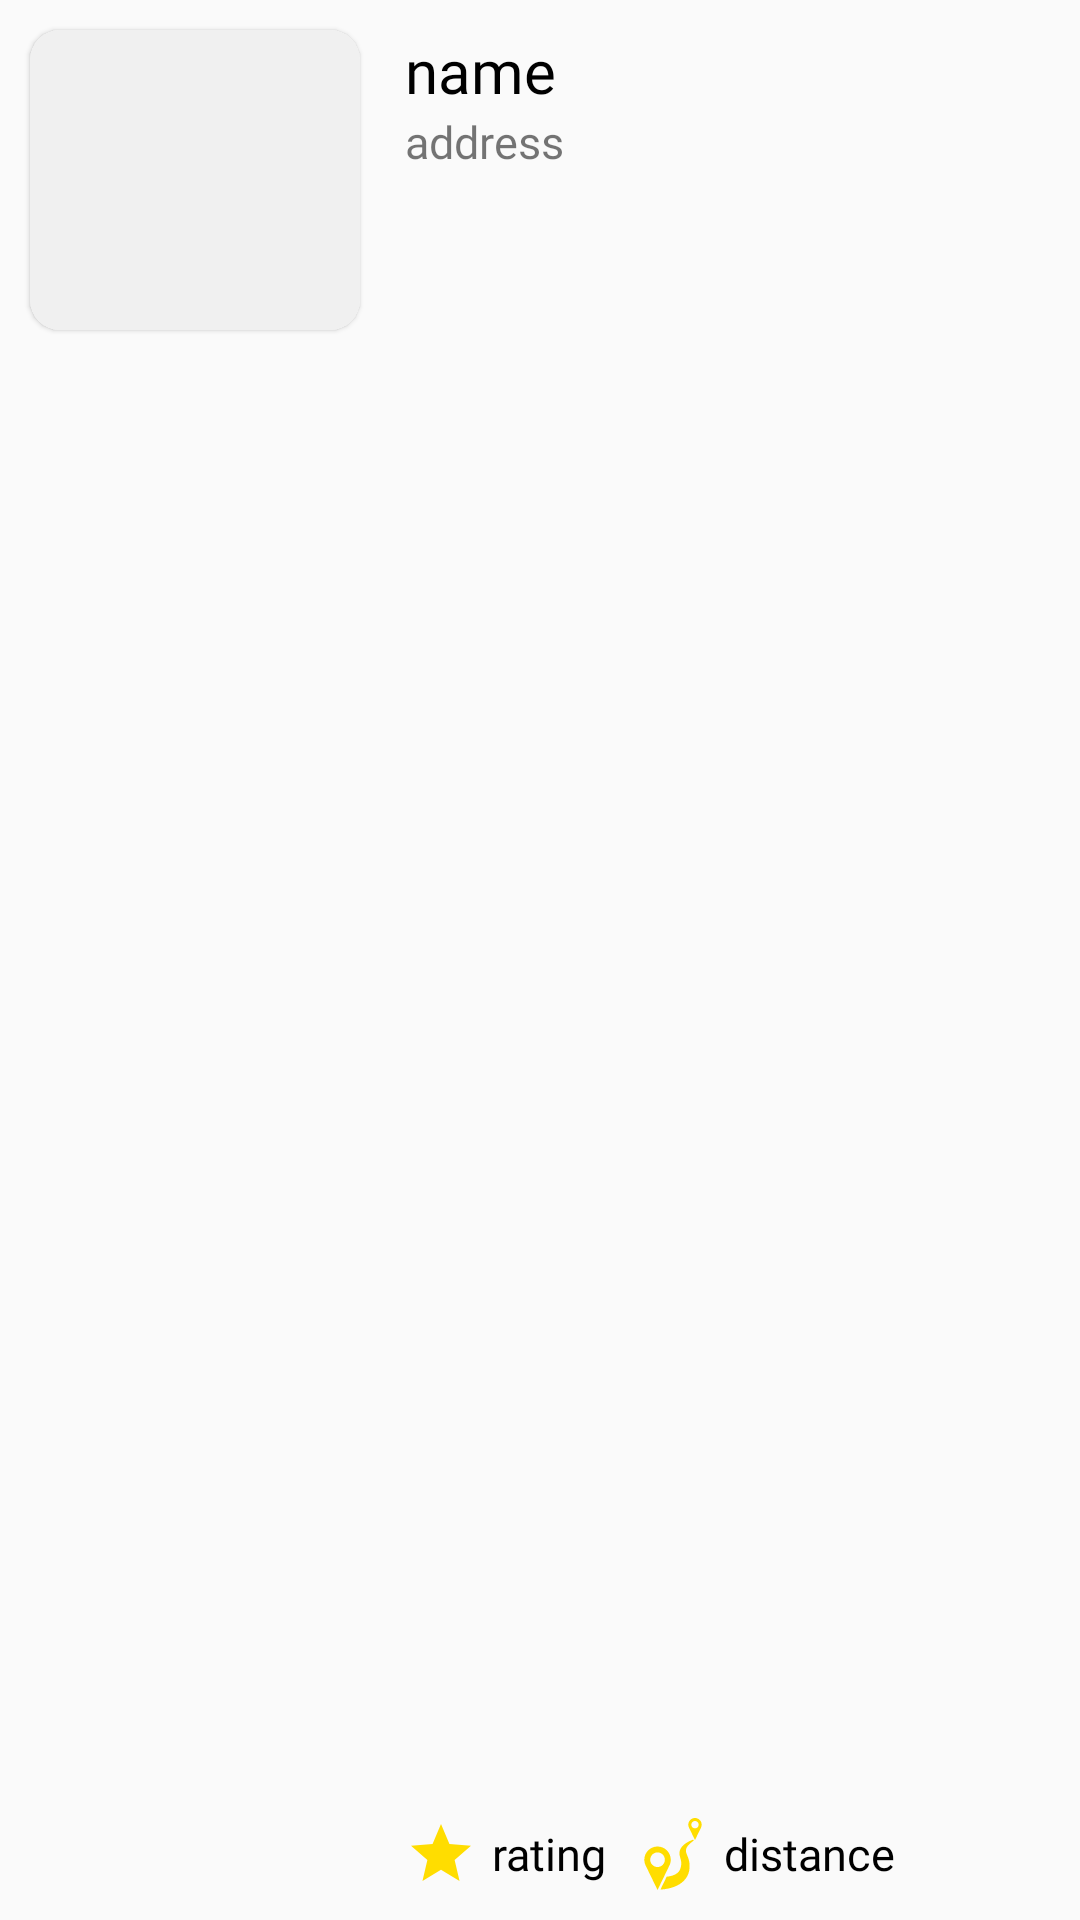

Locate icon controls on the screen. Image size 1080px×1920px, boxes as Rect(x1, y1, x2, y2).
star: Rect(411, 1824, 471, 1881)
